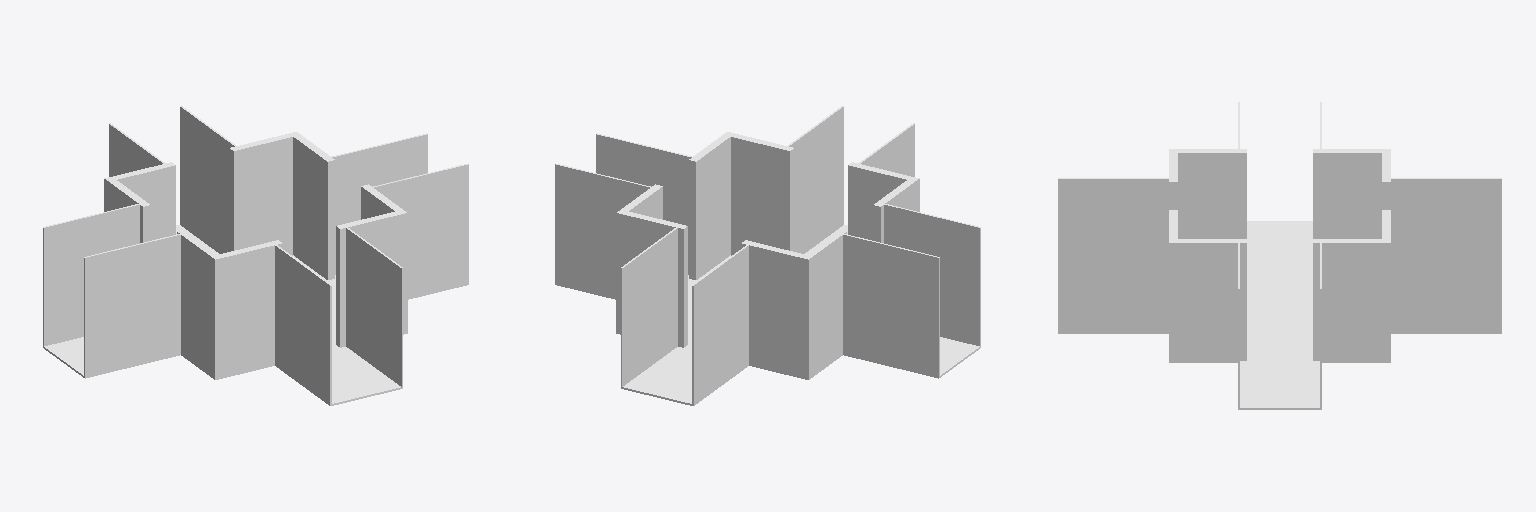
File: game-16.obj
The picture shows the model from 3 angles: view 1: azimuth 30°, elevation 25°; view 2: azimuth 150°, elevation 25°; view 3: azimuth 270°, elevation 25°; orthographic projection.
Visible parts, largest first — view 1: object 1; view 2: object 1; view 3: object 1.
Boxes of the visible parts, x1=… form: object 1: x1=43, y1=106, x2=468, y2=405; object 1: x1=555, y1=106, x2=980, y2=405; object 1: x1=1058, y1=102, x2=1501, y2=409.
Bounding box in the file's own units: 20 × 6 × 20.